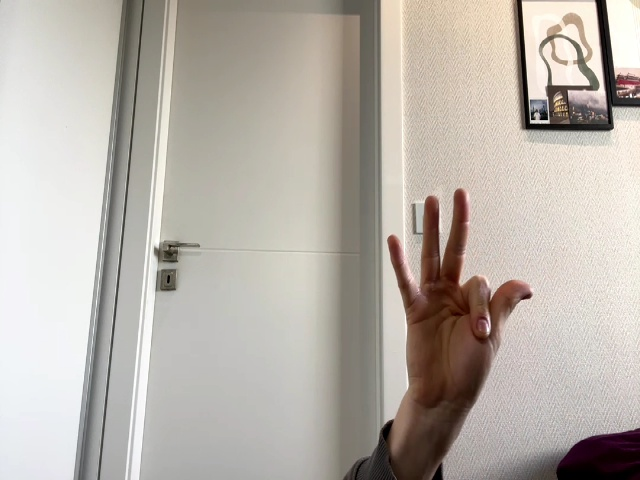F: (388, 189, 535, 417)
